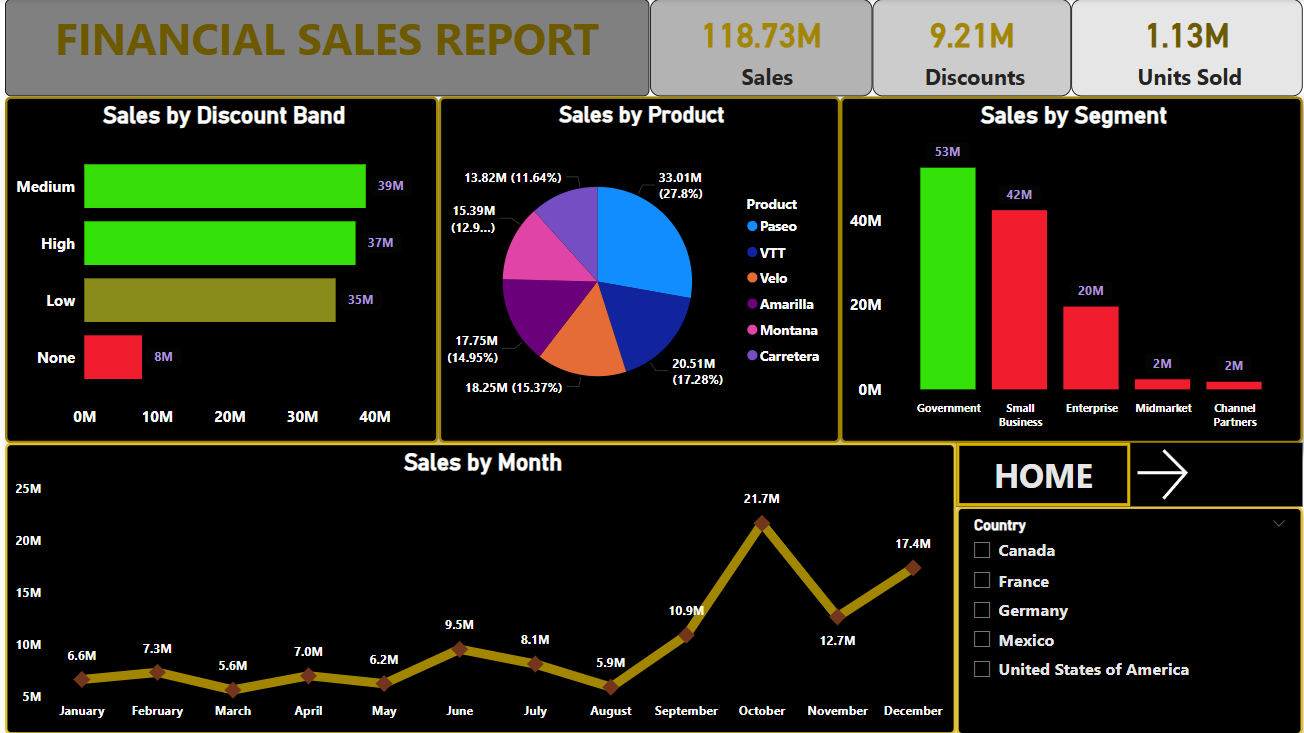

The dashboard page shown, as its layout file describes it:
{"tool":"powerbi","page":{"name":"SALES","canvas":[1280,720],"ordinal":1},"visuals":[{"type":"textbox","box":[10.1,0,630.5,95.2],"z":0},{"type":"barChart","title":"Sales by Discount Band","fields":{"Category":["financials.Discount Band"],"Y":["Sum(financials. Sales)"]},"box":[10.1,95.2,424.2,339],"z":1000},{"type":"pieChart","title":"Sales by Product","fields":{"Category":["financials.Product"],"Y":["Sum(financials. Sales)"]},"box":[434.3,95.2,392.4,339],"z":2000},{"type":"clusteredColumnChart","title":"Sales by Segment","fields":{"Category":["financials.Segment"],"Y":["Sum(financials. Sales)"]},"box":[826.7,95.2,453,339],"z":3000},{"type":"card","fields":{"Values":["Sum(financials. Sales)"]},"box":[640.6,0,217.9,95.2],"z":4000},{"type":"card","fields":{"Values":["Sum(financials.Discounts)"]},"box":[858.4,0,194.8,95.2],"z":5000},{"type":"card","fields":{"Values":["Sum(financials.Units Sold)"]},"box":[1053.2,0,226.5,95.2],"z":6000},{"type":"lineChart","title":" Sales by Month","fields":{"Category":["financials.Date.Variation.Date Hierarchy.Month"],"Y":["Sum(financials. Sales)"]},"box":[10.1,434.3,930.6,285.7],"z":7000},{"type":"slicer","fields":{"Values":["financials.Country"]},"box":[940.7,496.3,339,223.6],"z":8000},{"type":"actionButton","box":[1110.9,434.3,168.8,62],"z":9000},{"type":"actionButton","box":[940.7,434.3,170.2,62],"z":10000}]}

Visuals, with their boxes in screenshot pixels (x1, y1, x2, y2), scaled from the page's 1280x720 canvas onto the 1304x733 screenshot:
textbox: x1=10, y1=0, x2=653, y2=97
"Sales by Discount Band" barChart: x1=10, y1=97, x2=442, y2=442
"Sales by Product" pieChart: x1=442, y1=97, x2=842, y2=442
"Sales by Segment" clusteredColumnChart: x1=842, y1=97, x2=1303, y2=442
card - Sum(financials. Sales): x1=653, y1=0, x2=875, y2=97
card - Sum(financials.Discounts): x1=874, y1=0, x2=1073, y2=97
card - Sum(financials.Units Sold): x1=1073, y1=0, x2=1303, y2=97
" Sales by Month" lineChart: x1=10, y1=442, x2=958, y2=732
slicer - financials.Country: x1=958, y1=505, x2=1303, y2=732
actionButton: x1=1132, y1=442, x2=1303, y2=505
actionButton: x1=958, y1=442, x2=1132, y2=505
